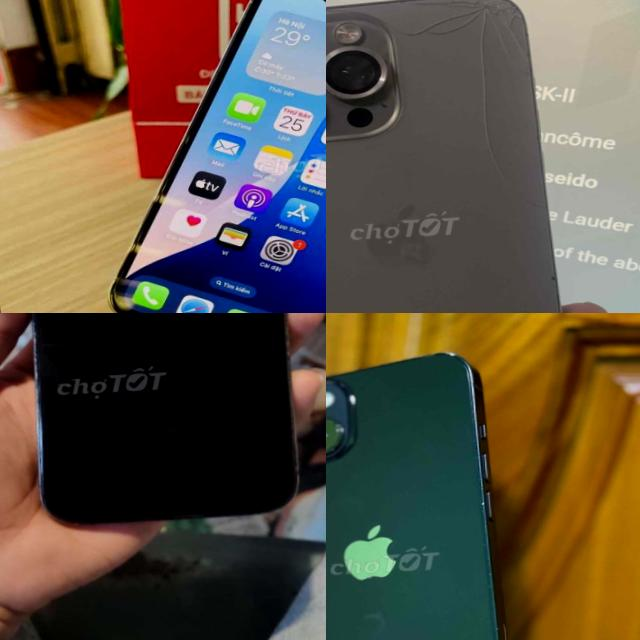gen_12_13: (83, 0, 326, 313)
gen_14: (0, 313, 315, 532), (326, 340, 516, 640)
gen_15: (326, 0, 576, 313)
